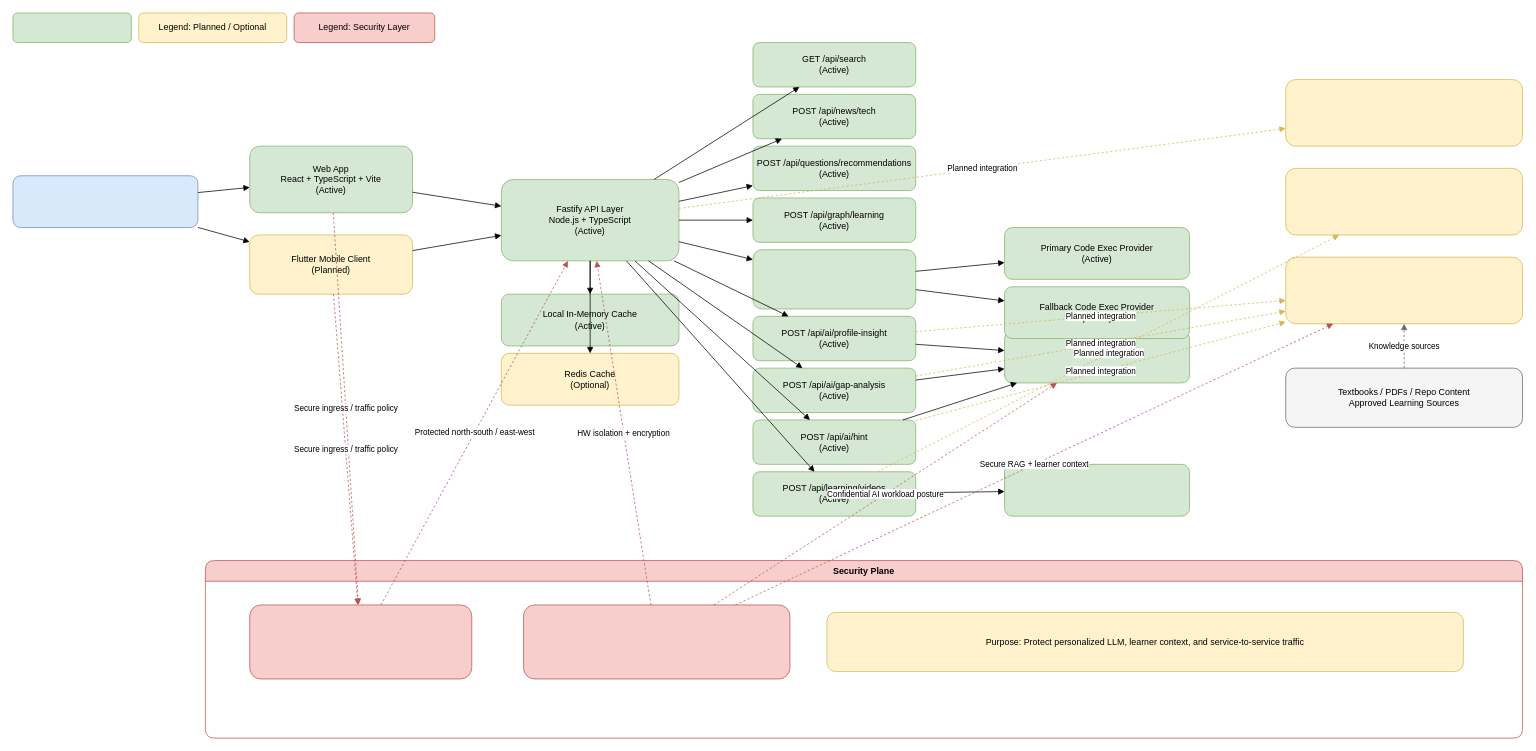
Image size: 1536x751. Some labels were removed from this diagram. Here are the shapes that lost their labels. From the top down, the centre of each, then its label:
At (71,27): "Legend: Active".
At (1404,112): "Lemonade SDK (LLM-Aid) Route workloads across CPU/iGPU/NPU (Planned)".
At (105,201): "Students / Mentors / Early Professionals".
At (1404,201): "GAIA Clip Agent Video + Multimodal Q&A/Summaries (Planned)".
At (834,279): "POST /api/code/execute GET /api/code/languages (Active)".
At (1404,290): "LlamaIndex RAG Pipeline Grounded responses from approved materials (Planned)".
At (1097,356): "OpenAI-Compatible Endpoints (Active)".
At (1097,490): "YouTube Data API (Active)".
At (360,641): "Pensando DPU Network + Security Offload (Planned)".
At (656,641): "AMD Infinity Guard Hardware-backed Isolation + Encryption (In Progress)".
